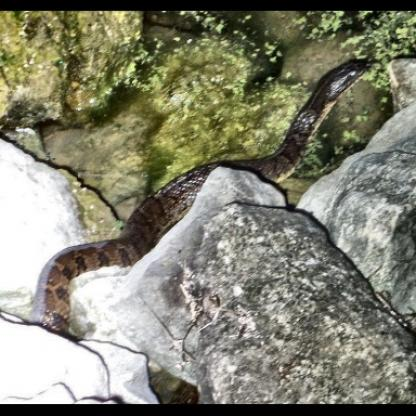Snake: (30, 58, 374, 338)
